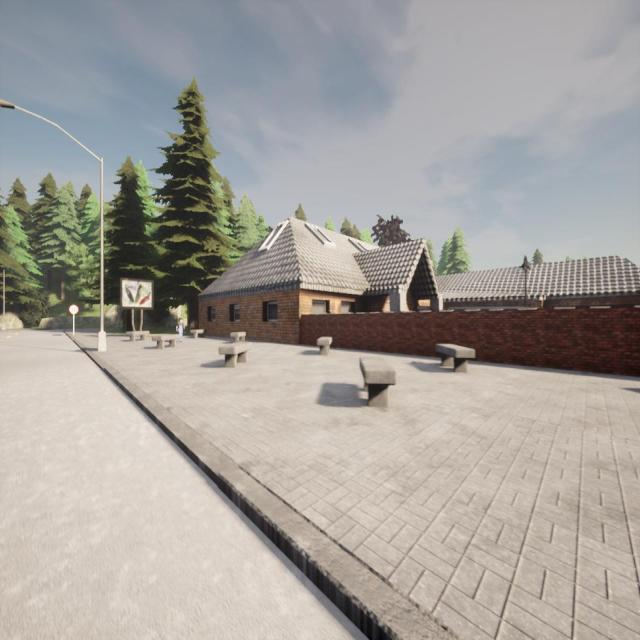Pedestrian: (176, 317, 184, 341)
Traffic_Signs: (69, 304, 79, 315)
